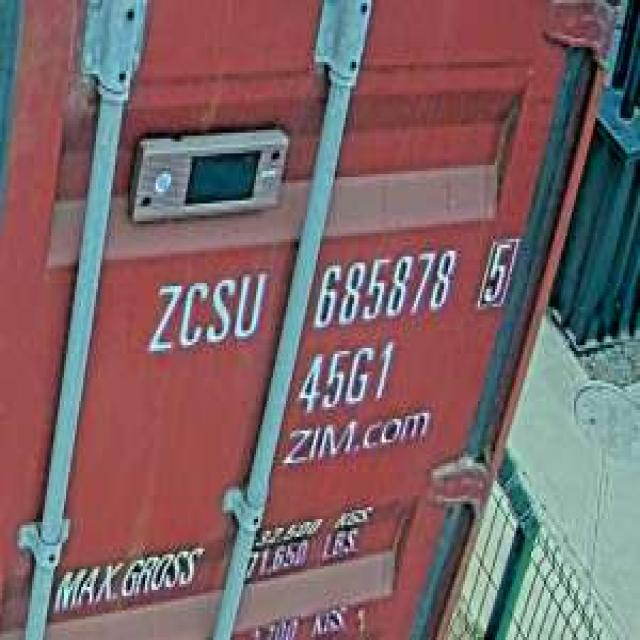dv: (476, 227, 518, 316)
owner: (143, 262, 267, 357)
serial: (307, 242, 457, 330)
size: (292, 336, 399, 416)
